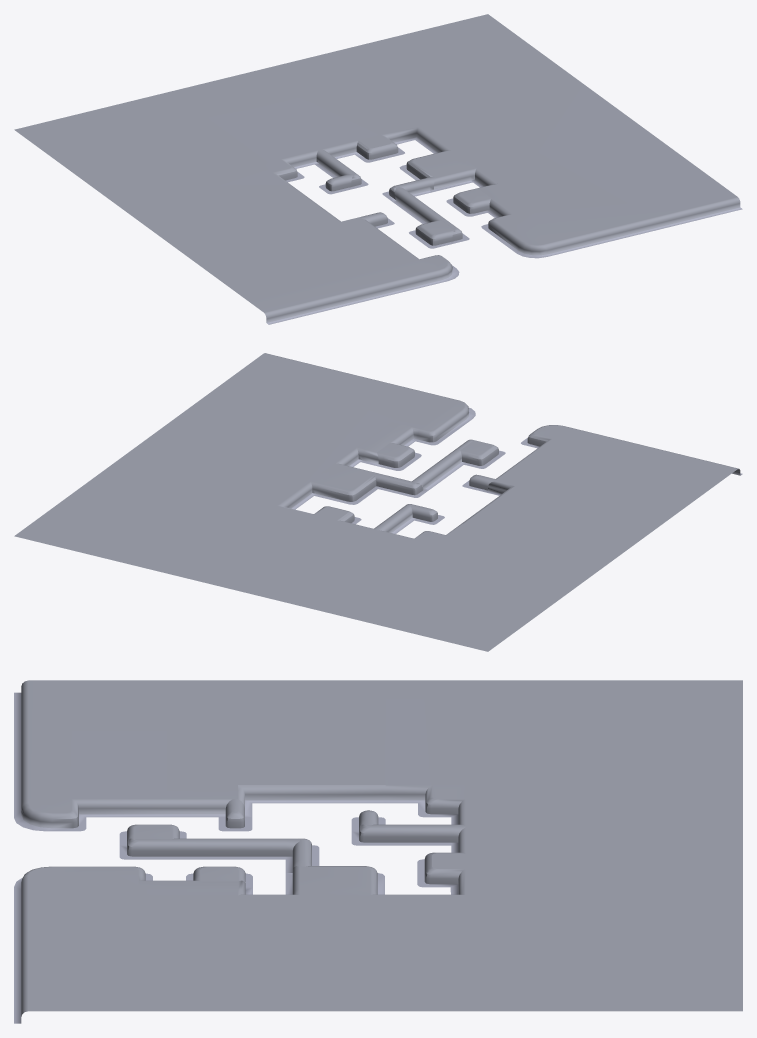
3 renders of one model, top to bottom at view 1: azimuth 30°, elevation 25°; view 2: azimuth 150°, elevation 25°; view 3: azimuth 270°, elevation 25°, orthographic. The views are drawn at different scales.
Parts seen in each view (by area): view 1: L38; view 2: L38; view 3: L38.
Part boxes in pixels (x1,y1,x2,y2): L38: [14, 14, 742, 324]; L38: [14, 353, 742, 651]; L38: [14, 680, 742, 1023].
Size of the model in its own units: 2952 by 51.03 by 2749.
